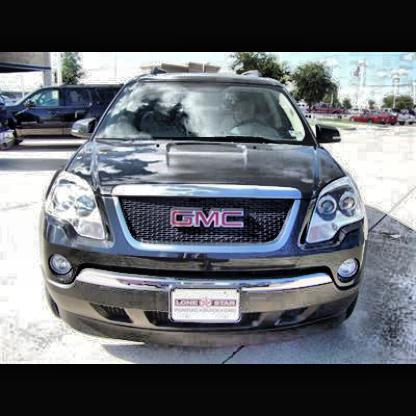GMC Acadia SUV 2012: (40, 68, 373, 352)
